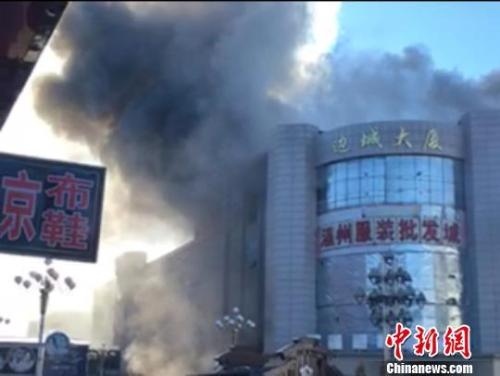smoke: (84, 13, 273, 352)
